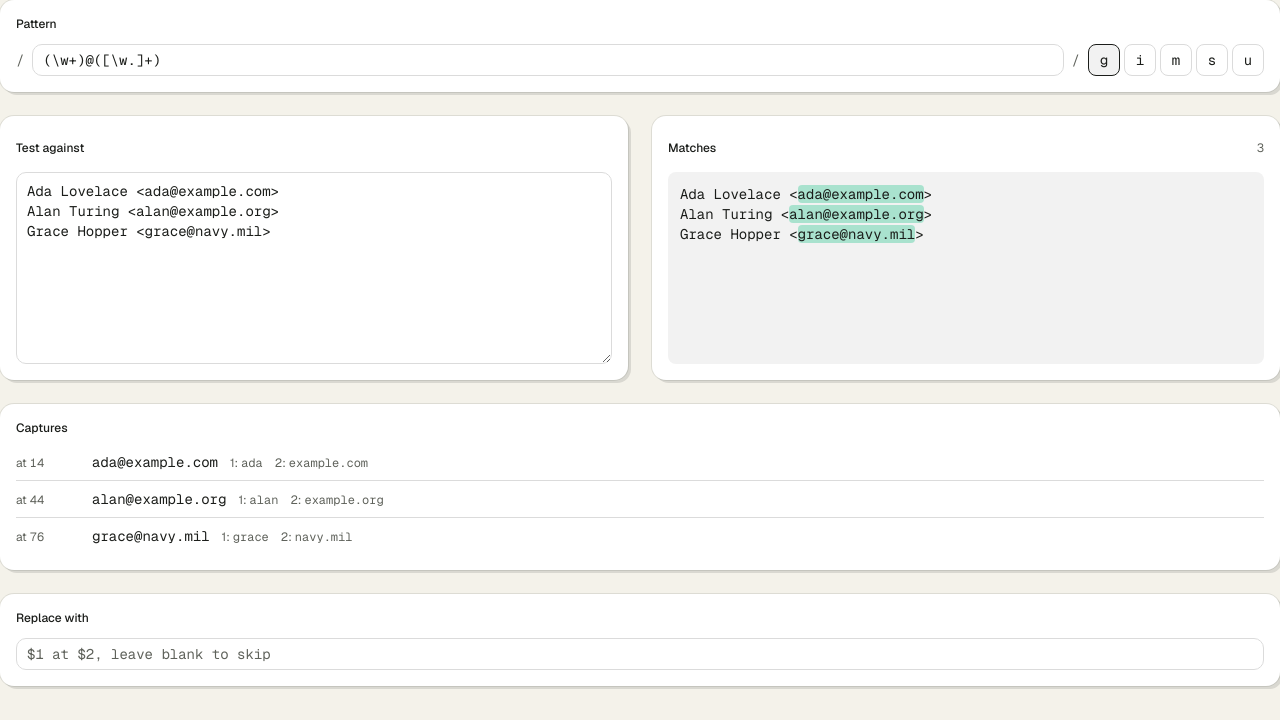
Test case: RegexTesterTool › shows nothing at all for an empty pattern
Clear the field labelled "Pattern" at {"x": 548, "y": 60}, box [32,44,1064,76]
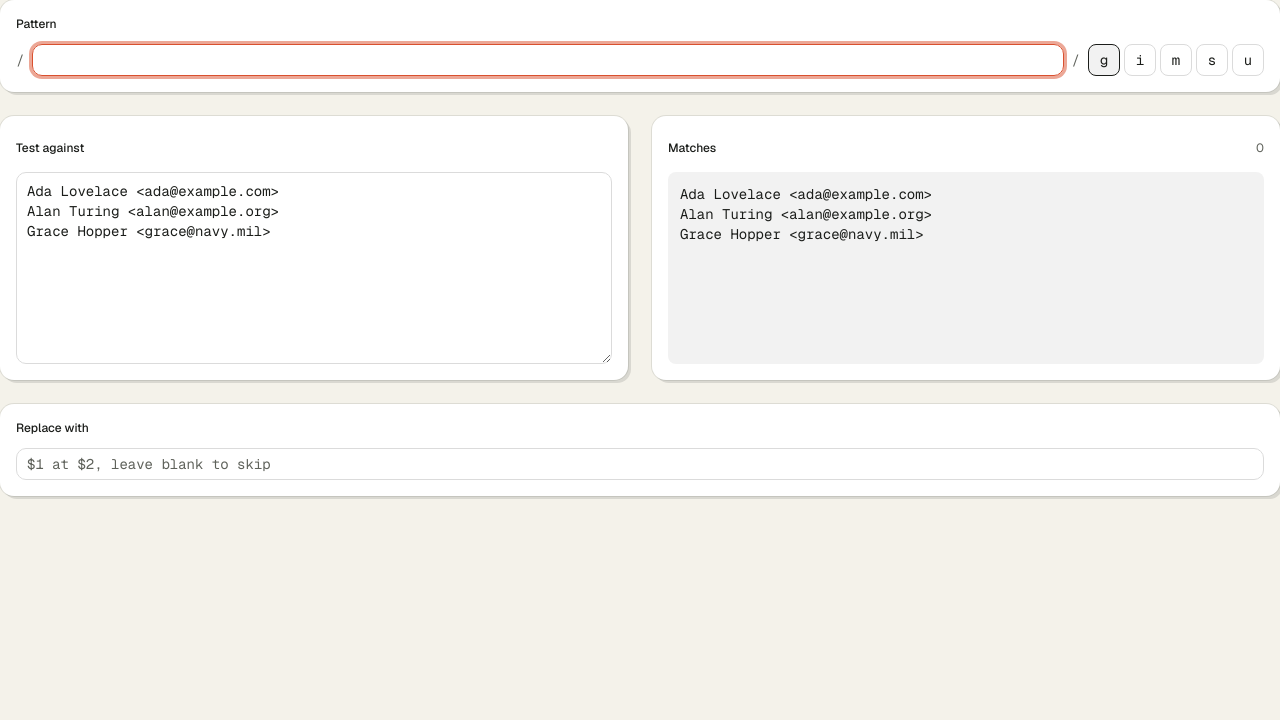
Now the text "Captures" is gone
